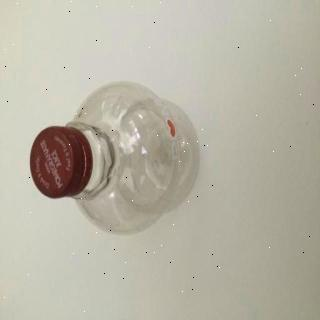Plastic-bottle: (31, 80, 201, 236)
